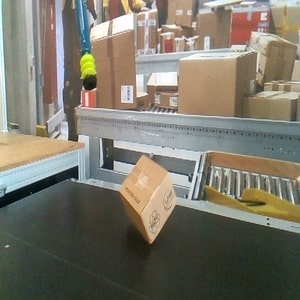box: (118, 154, 178, 245)
